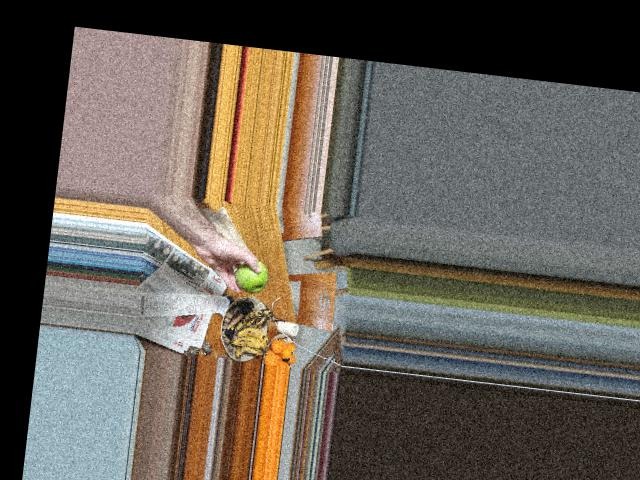apple: (228, 256, 272, 295)
